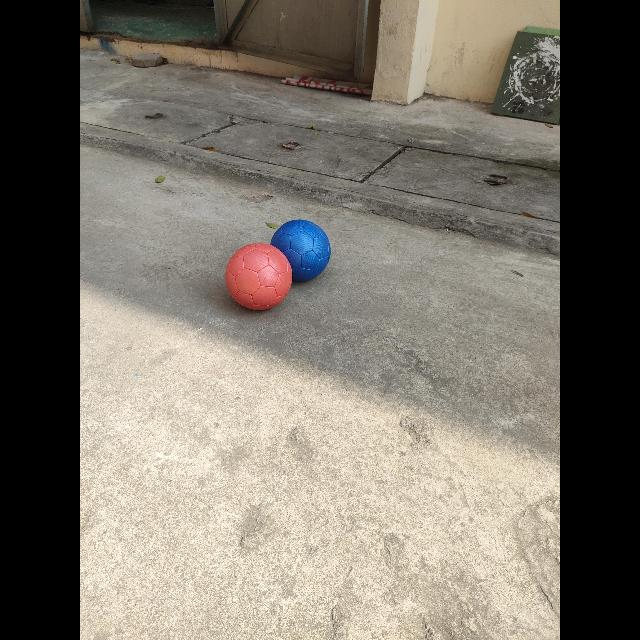B: (270, 220, 330, 281)
R: (225, 244, 292, 310)
